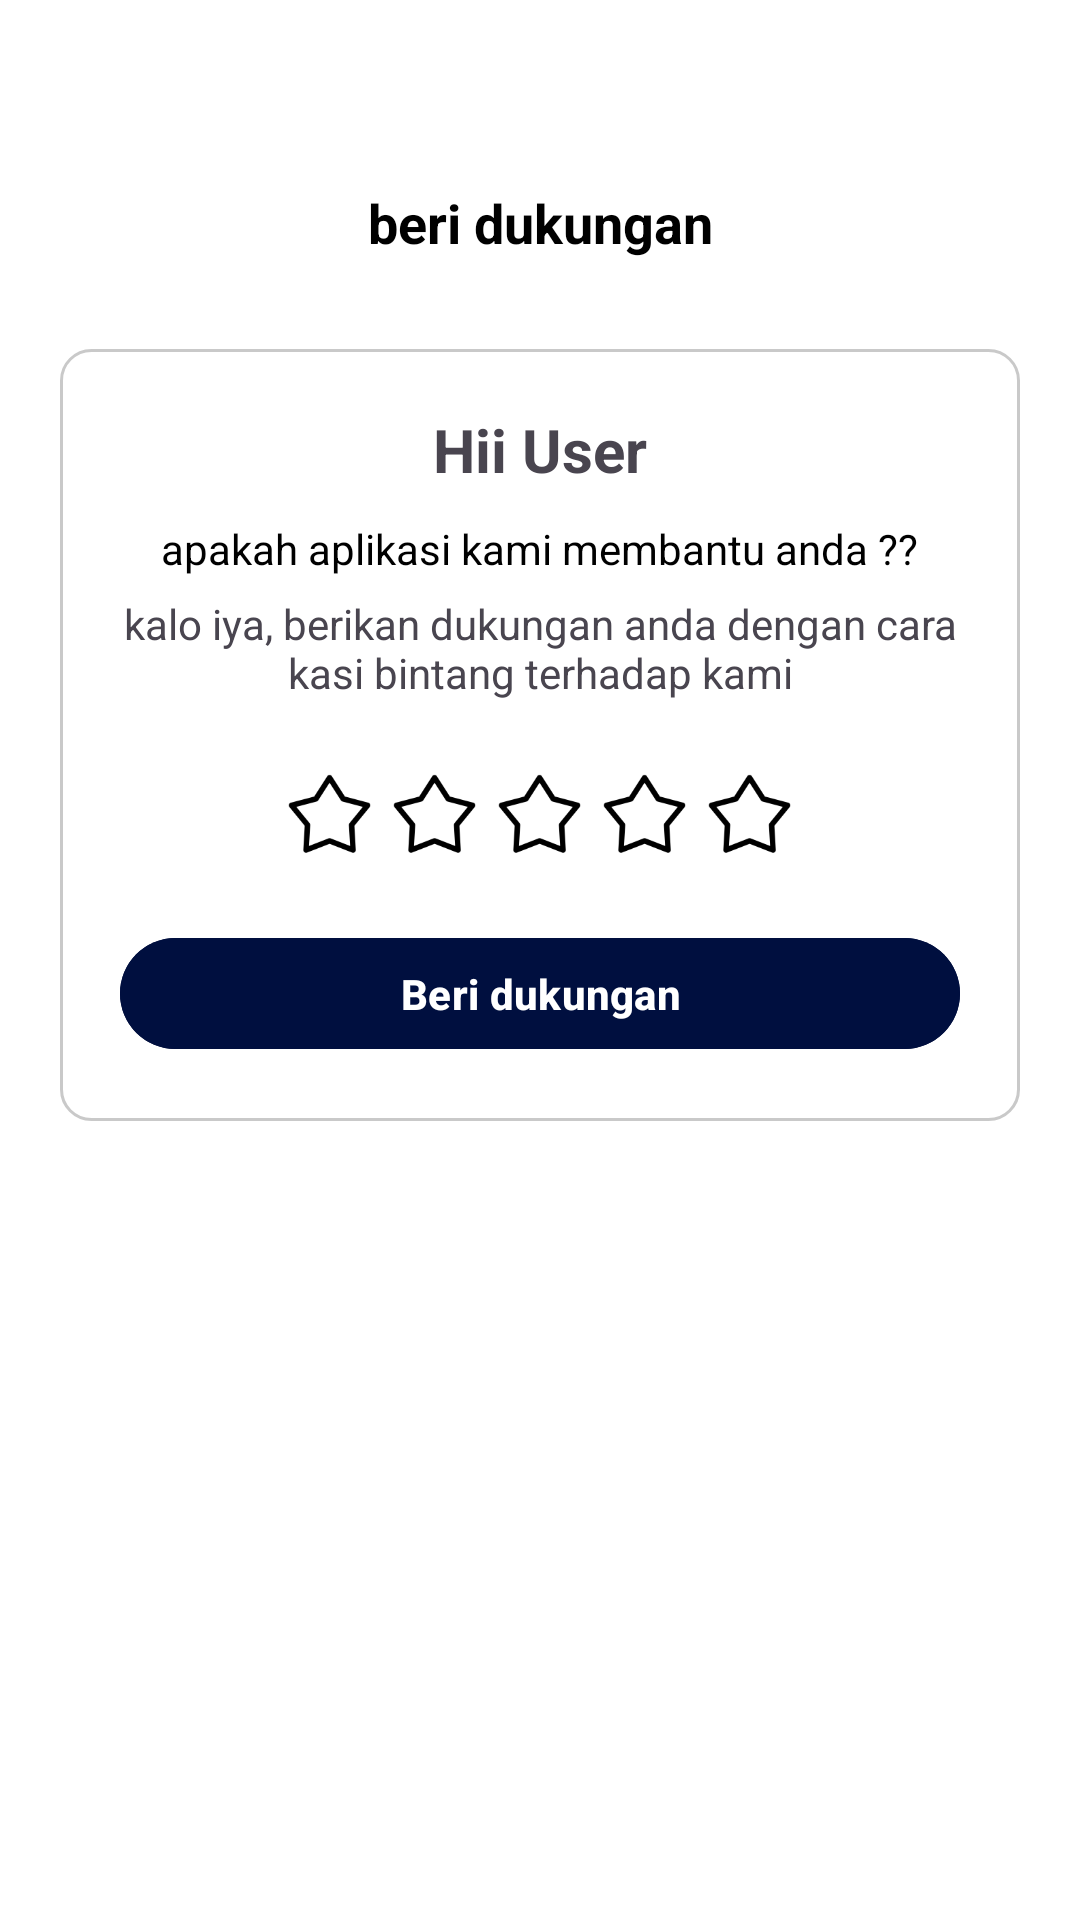

Screen size 1080px x 1920px. Icon name, then its center in pixels as (x,y):
star: (329,814), (434,814), (539,814), (644,814), (749,814)
